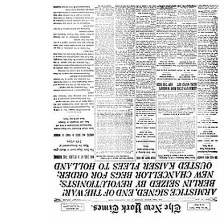news_paper: (50, 0, 224, 220)
